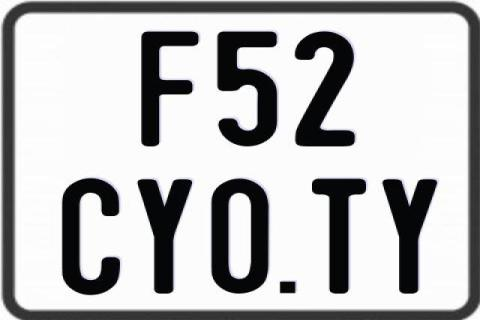0: (294, 32, 360, 152), (214, 30, 278, 146), (211, 178, 270, 298)
C: (60, 178, 119, 300)
F: (141, 29, 204, 149)
T: (309, 178, 363, 296)
Y: (138, 177, 198, 293), (380, 177, 437, 295)
